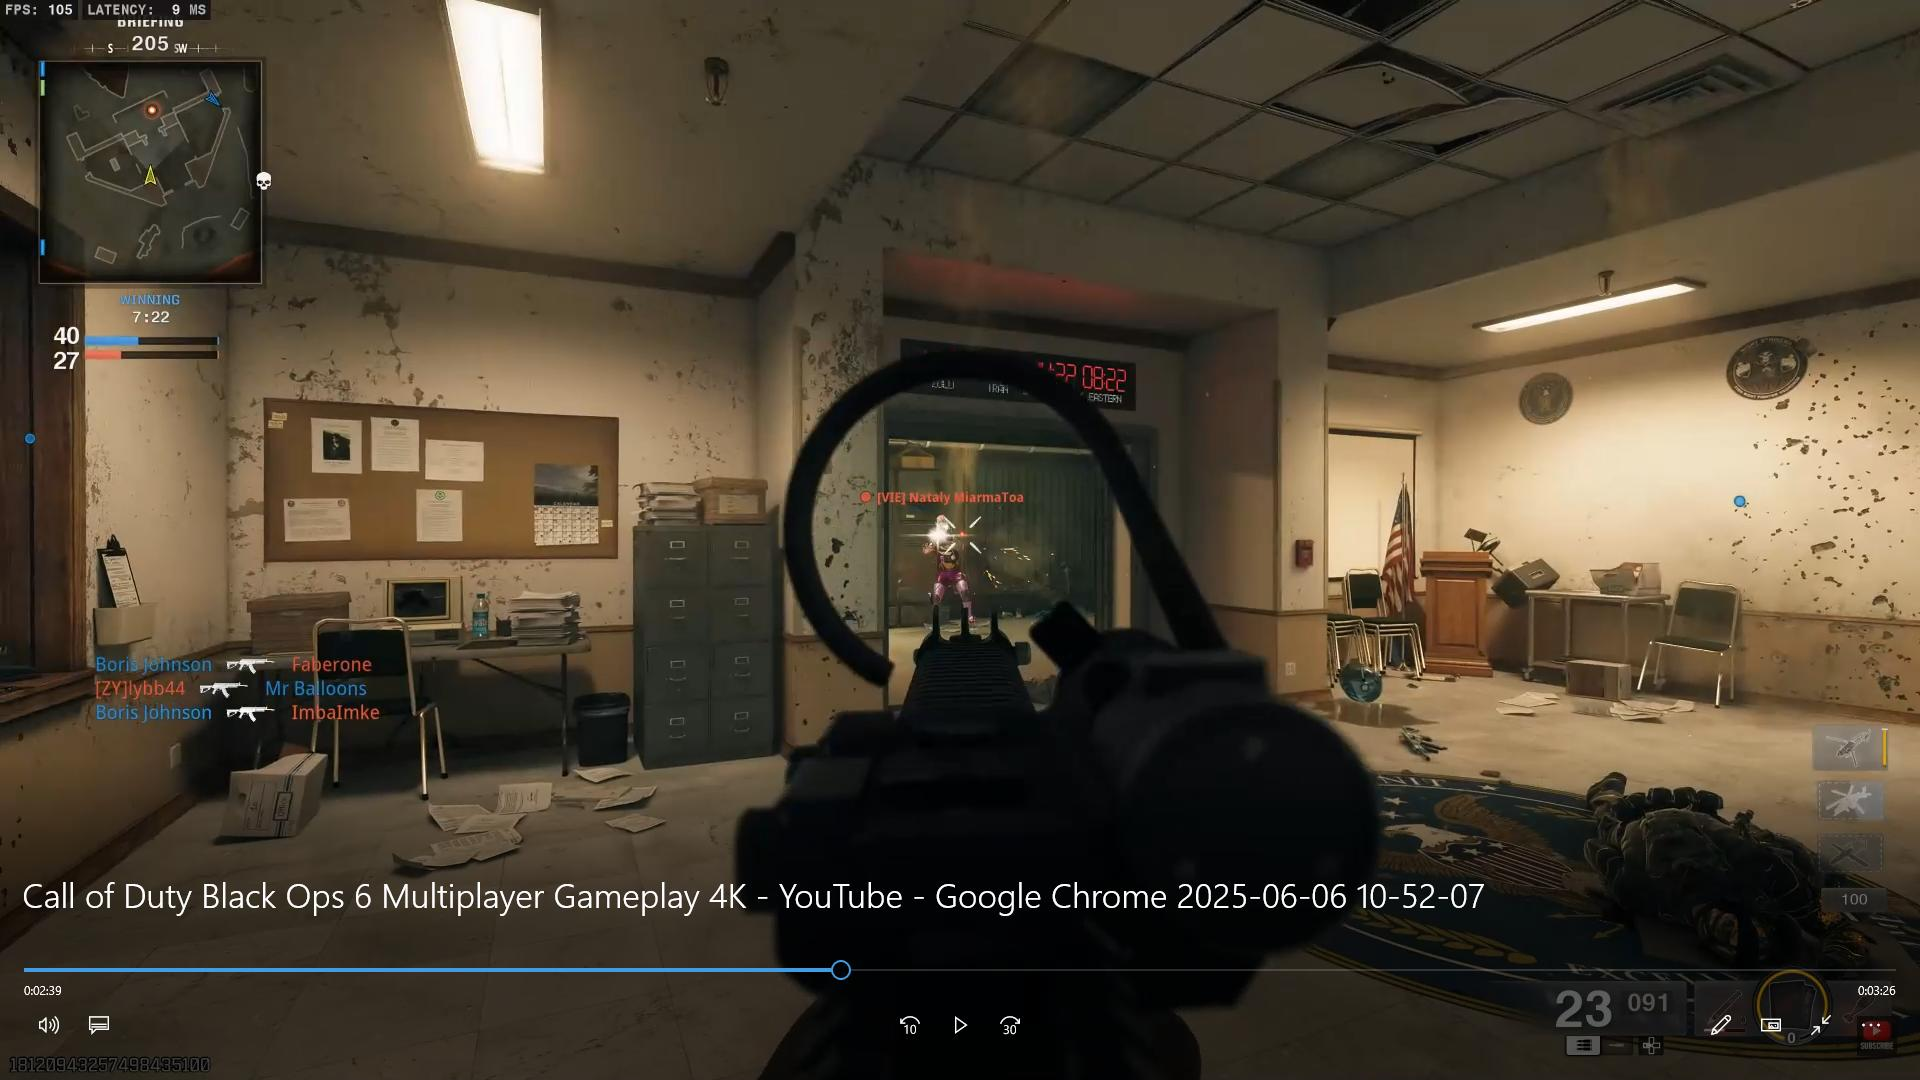Enemy: (860, 469, 1030, 626)
